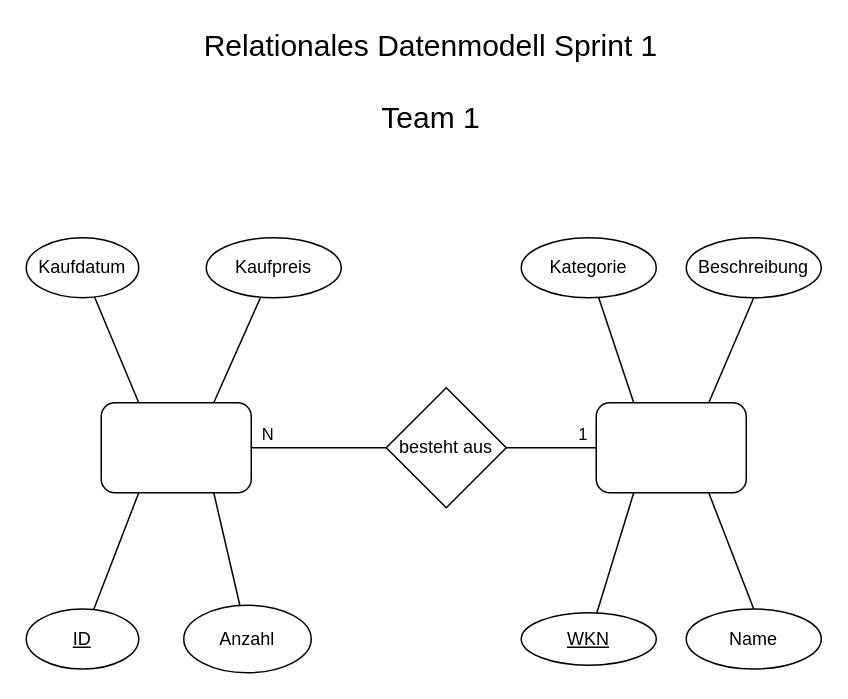
Some shapes in this 848 by 699 pixel diagram are drawn without their labels. The shapes that lost their labels are listed below. From the top down, each one's centre as x and y in pixels, then its label:
[175,447]: Portfolioitem
[670,447]: Wertpapier
